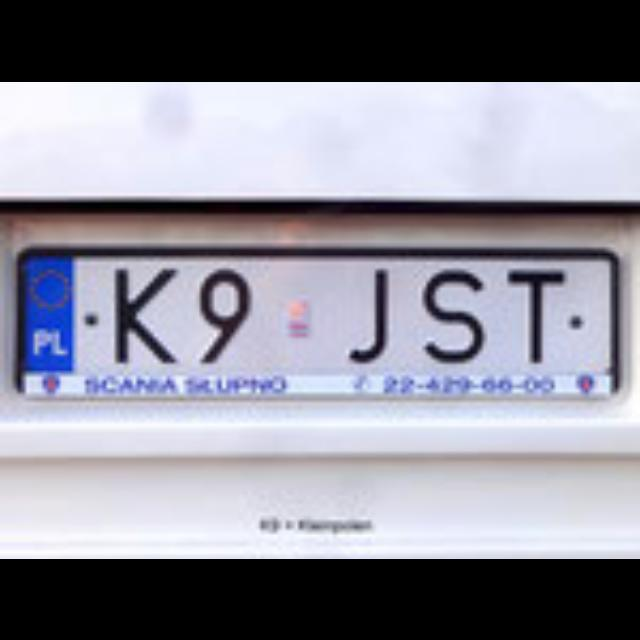pl_license_plate: (17, 248, 605, 370)
